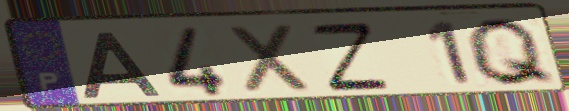1: (423, 18, 474, 88)
4: (164, 24, 232, 99)
A: (79, 29, 165, 100)
Q: (462, 14, 560, 89)
X: (224, 21, 317, 97)
Z: (306, 19, 394, 94)
